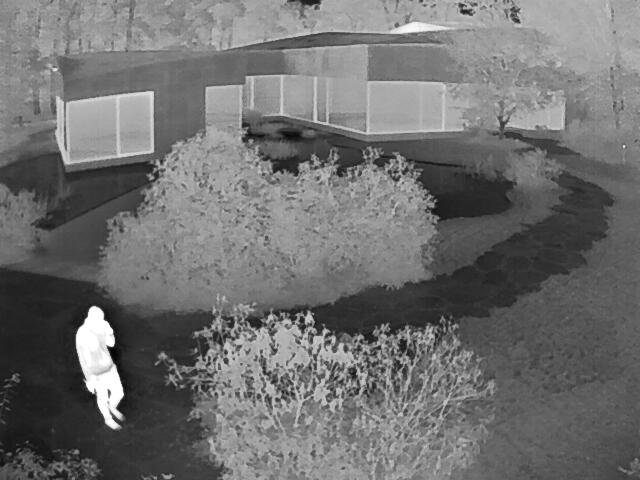person: (74, 305, 124, 429)
